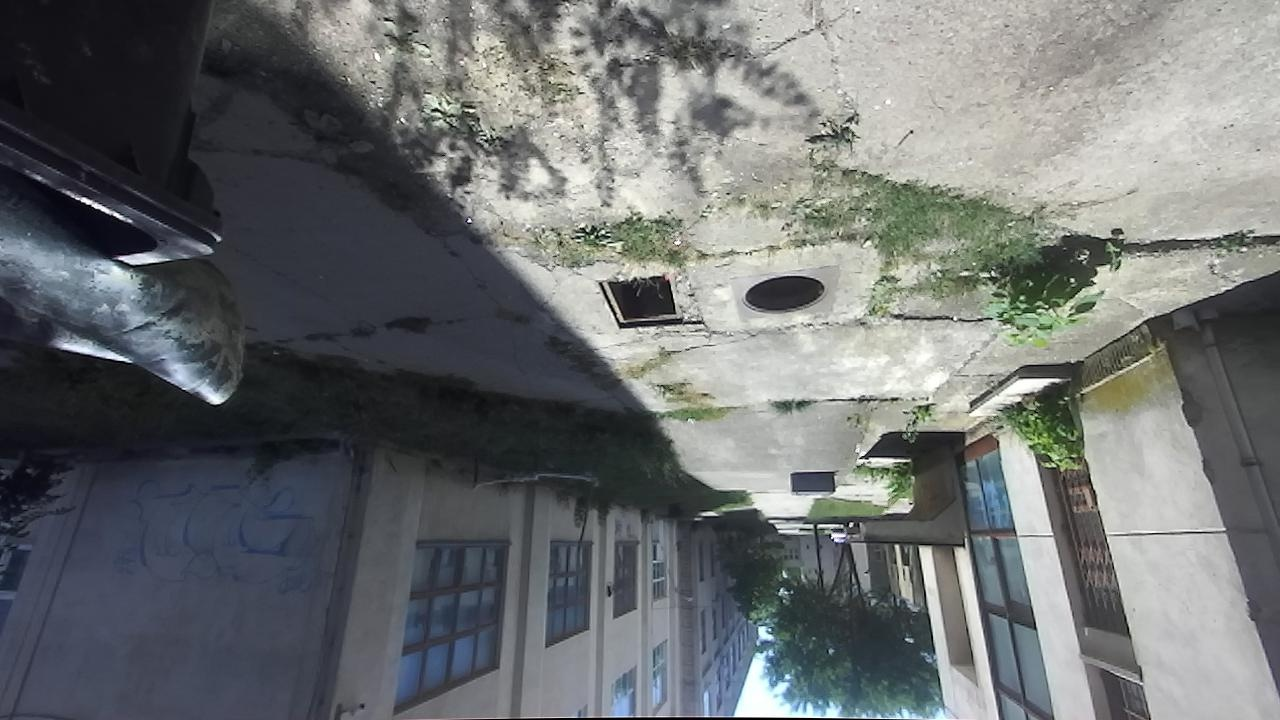drain: (592, 274, 685, 332), (733, 271, 832, 321)
